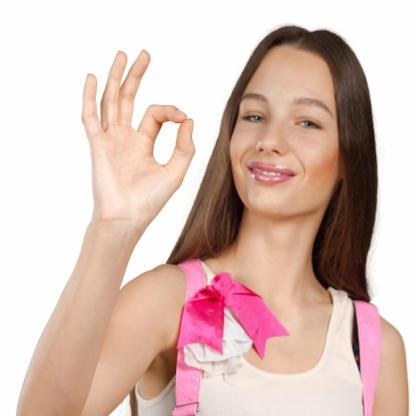ok: (74, 44, 198, 224)
